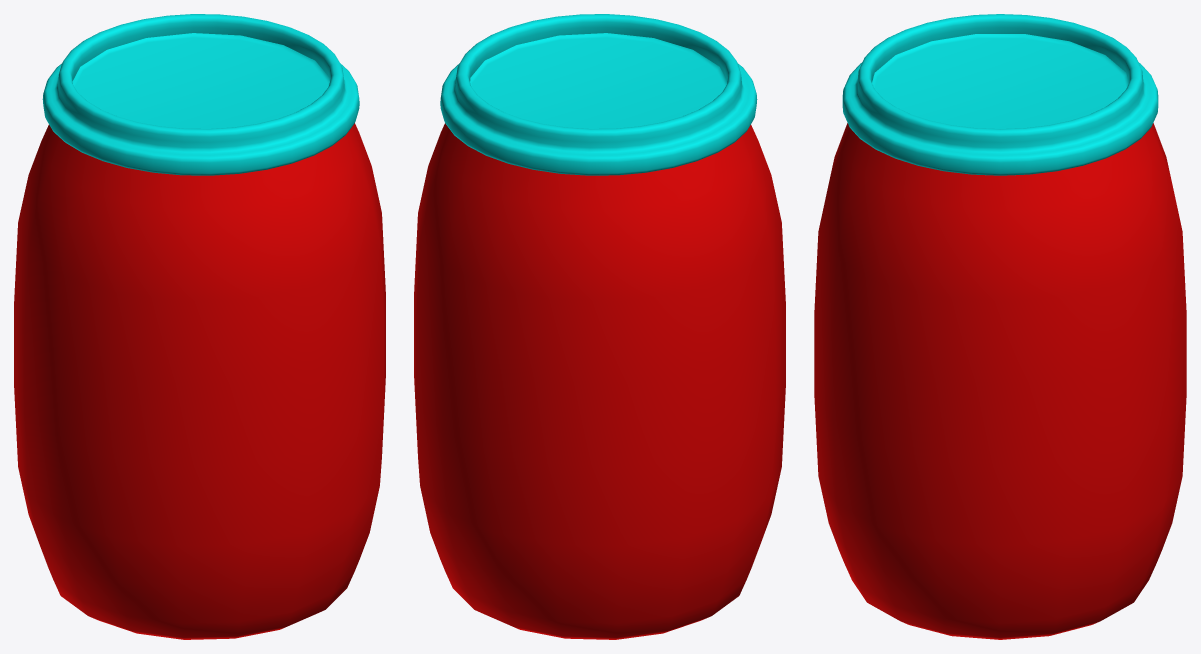
File: 3D_Bidon_Agua.fbx
The picture shows the model from 3 angles, left to right: view 1: azimuth 30°, elevation 25°; view 2: azimuth 150°, elevation 25°; view 3: azimuth 270°, elevation 25°; orthographic projection.
Parts seen in each view (by area): view 1: Bidon_Agua; view 2: Bidon_Agua; view 3: Bidon_Agua.
Boxes of the visible parts, x1,y1,x2,y2 form: Bidon_Agua: (14, 14, 385, 639); Bidon_Agua: (414, 14, 785, 639); Bidon_Agua: (814, 14, 1186, 639).
Bounding box in the file's own units: 58.83 × 89.32 × 59.08.
